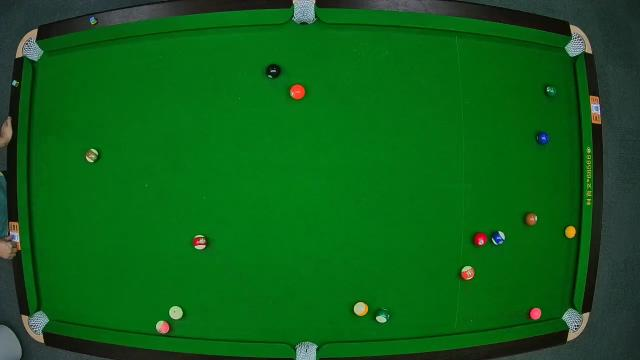bag1: (24, 40, 40, 62)
bag2: (292, 2, 316, 22)
bag3: (566, 34, 584, 56)
bag4: (27, 310, 49, 336)
bag5: (295, 342, 319, 360)
bag6: (562, 308, 584, 332)
ball0: (169, 305, 185, 321)
ball1: (564, 224, 576, 242)
ball10: (492, 229, 506, 247)
ball11: (192, 234, 208, 252)
ball12: (154, 319, 170, 335)
ball13: (460, 266, 476, 282)
ball14: (373, 308, 391, 324)
ball15: (84, 149, 100, 163)
ball2: (536, 130, 550, 146)
ball3: (472, 231, 486, 246)
ball4: (530, 306, 542, 320)
ball5: (288, 84, 306, 100)
ball7: (524, 211, 540, 227)
ball8: (544, 82, 560, 98), (266, 64, 280, 80)
ball9: (352, 301, 370, 317)
